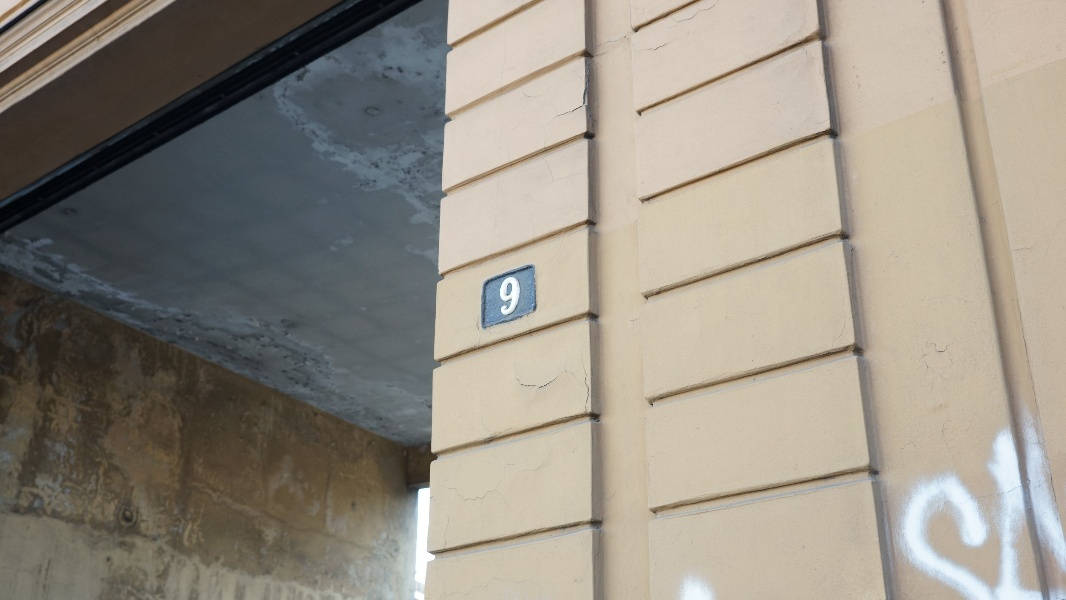text: (865, 415, 880, 599), (881, 415, 896, 599), (897, 415, 912, 599), (913, 415, 928, 599), (929, 415, 944, 599), (945, 415, 960, 599), (961, 415, 976, 599), (977, 415, 992, 599), (993, 415, 1008, 599), (1009, 415, 1024, 599), (1025, 415, 1040, 599), (1041, 415, 1056, 599), (1057, 415, 1064, 599), (860, 415, 864, 599), (498, 275, 512, 318), (513, 275, 522, 318)
